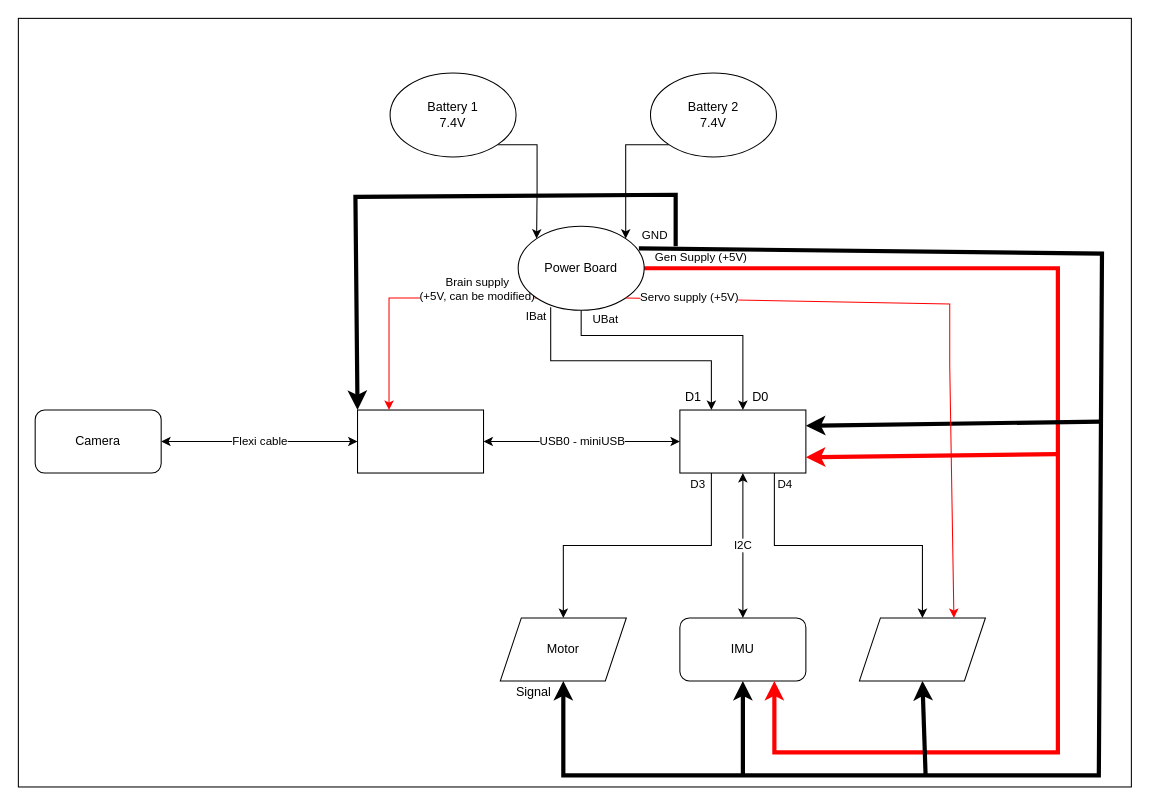
The diagram is 1150 pixels wide and 805 high, and some of its shapes have lost their labels. The box of each missing label's shape, as (x1, y1, x2, y2) in pixels:
Brain (Raspbery pi): (356, 409, 484, 473)
Controller (Nucleo): (679, 409, 806, 473)
Servo: (858, 617, 985, 681)
